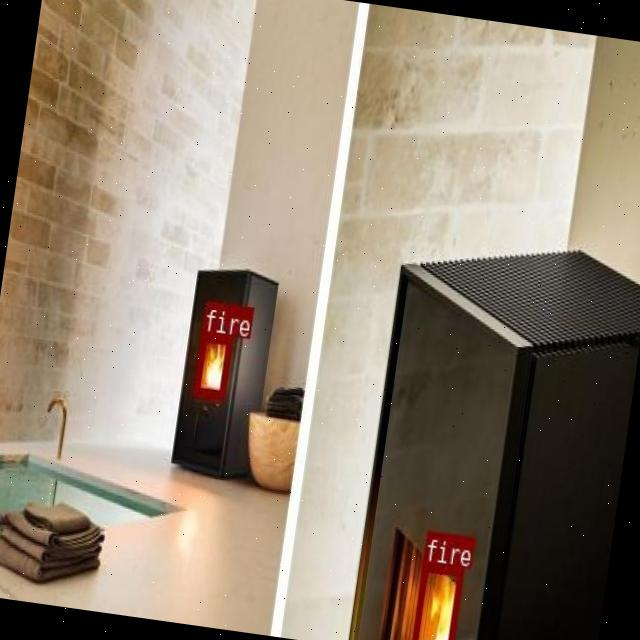fire: (410, 561, 463, 640), (193, 332, 232, 399)
